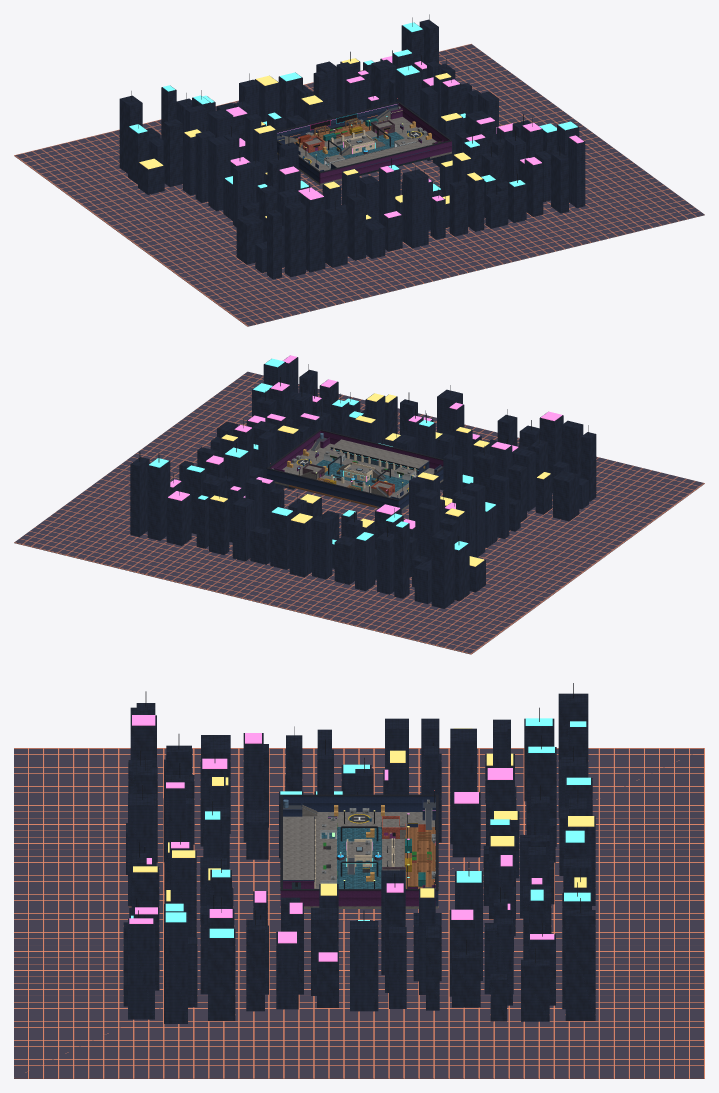
The model's file is kestrel_optimized.glb.
3 views of the same model, one above another, from view 1: azimuth 30°, elevation 25°; view 2: azimuth 150°, elevation 25°; view 3: azimuth 270°, elevation 25° (orthographic). The views are drawn at different scales.
Parts seen in each view (by area): view 1: streetgrid, skyA, skyB, conc_roof, cladding_plum, neon_pink, trim_dark, neon_cyan, neon_amber, cladding_navy, tile_plaza, wood_deck; view 2: streetgrid, skyA, skyB, conc_roof, neon_pink, neon_cyan, cladding_navy, trim_dark, neon_amber, cladding_plum, tile_plaza, plaster; view 3: streetgrid, skyB, skyA, conc_roof, neon_pink, neon_cyan, trim_dark, cladding_navy, neon_amber, tile_plaza, cladding_plum, wood_deck.
Part boxes in pixels (bbox=[...]): streetgrid: bbox=[14, 43, 704, 326]; skyA: bbox=[119, 19, 568, 279]; skyB: bbox=[146, 61, 585, 273]; conc_roof: bbox=[277, 109, 451, 185]; cladding_plum: bbox=[319, 103, 451, 183]; neon_pink: bbox=[226, 56, 583, 217]; trim_dark: bbox=[131, 14, 560, 212]; neon_cyan: bbox=[129, 22, 577, 191]; neon_amber: bbox=[139, 58, 482, 219]; cladding_navy: bbox=[277, 103, 429, 182]; tile_plaza: bbox=[308, 132, 404, 165]; wood_deck: bbox=[294, 117, 388, 149]; streetgrid: bbox=[14, 371, 704, 654]; skyA: bbox=[130, 369, 596, 608]; skyB: bbox=[179, 357, 588, 603]; conc_roof: bbox=[274, 439, 443, 510]; neon_pink: bbox=[168, 355, 562, 528]; neon_cyan: bbox=[149, 358, 495, 550]; cladding_navy: bbox=[267, 461, 443, 508]; trim_dark: bbox=[139, 364, 588, 558]; neon_amber: bbox=[210, 393, 550, 566]; cladding_plum: bbox=[270, 431, 443, 475]; tile_plaza: bbox=[316, 458, 411, 492]; plaster: bbox=[331, 448, 416, 488]; streetgrid: bbox=[14, 748, 704, 1078]; skyB: bbox=[126, 718, 595, 1023]; skyA: bbox=[123, 693, 595, 1021]; conc_roof: bbox=[280, 805, 438, 908]; neon_pink: bbox=[129, 715, 554, 961]; neon_cyan: bbox=[131, 718, 590, 937]; trim_dark: bbox=[136, 683, 580, 962]; cladding_navy: bbox=[283, 796, 438, 906]; neon_amber: bbox=[133, 728, 594, 901]; tile_plaza: bbox=[321, 827, 381, 888]; cladding_plum: bbox=[280, 881, 435, 906]; wood_deck: bbox=[404, 827, 435, 888].
Size of the model in its own units: 10400 by 1808 by 9200.
Materials: 46 (35 with a texture image).
